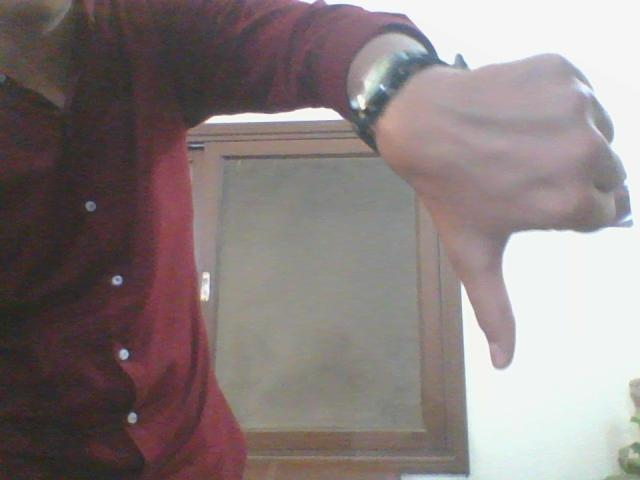thumbs-down: (441, 49, 626, 370)
